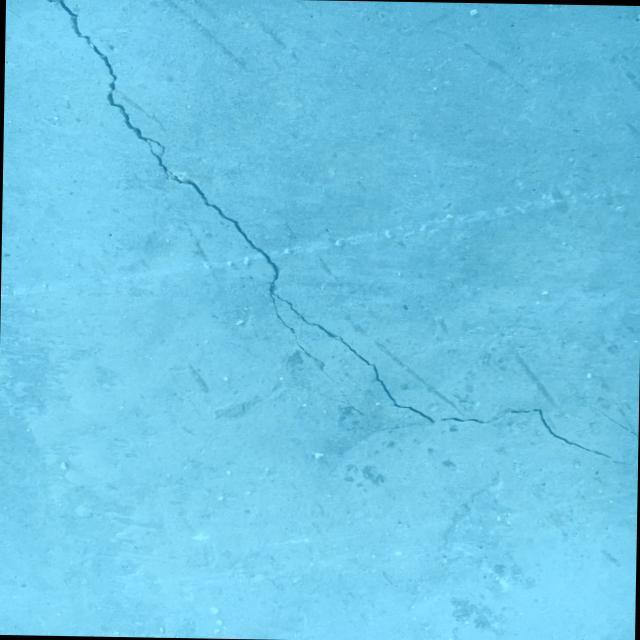crack: (22, 0, 640, 465), (293, 377, 400, 432), (296, 344, 342, 385), (592, 406, 638, 440)
